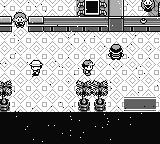main: (82, 61, 95, 75)
no-caminable: (76, 81, 108, 111), (44, 18, 108, 32), (76, 0, 108, 16), (108, 0, 123, 31), (1, 80, 12, 112), (124, 17, 139, 32), (28, 17, 43, 31), (1, 17, 12, 32), (155, 17, 160, 32), (158, 1, 160, 16)
npc: (107, 44, 125, 62), (13, 13, 27, 27), (29, 61, 42, 76), (140, 0, 155, 11)
puerta: (122, 97, 159, 111)
recuperarse: (140, 18, 154, 32)
